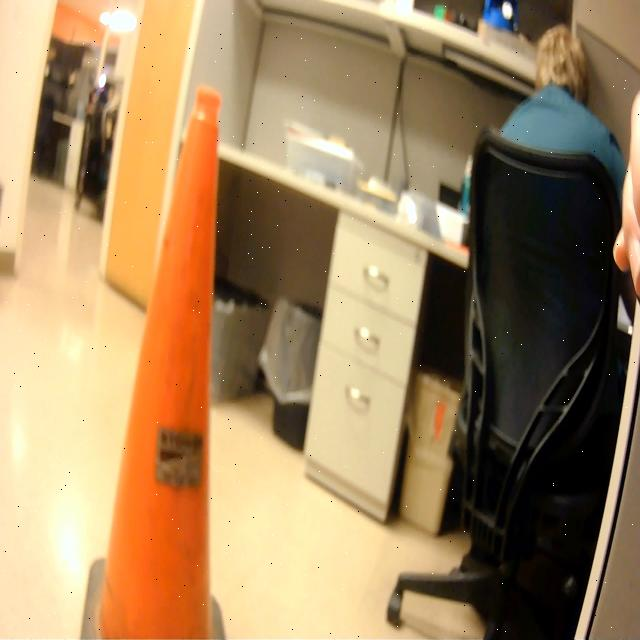traffic cone: (74, 77, 234, 640)
